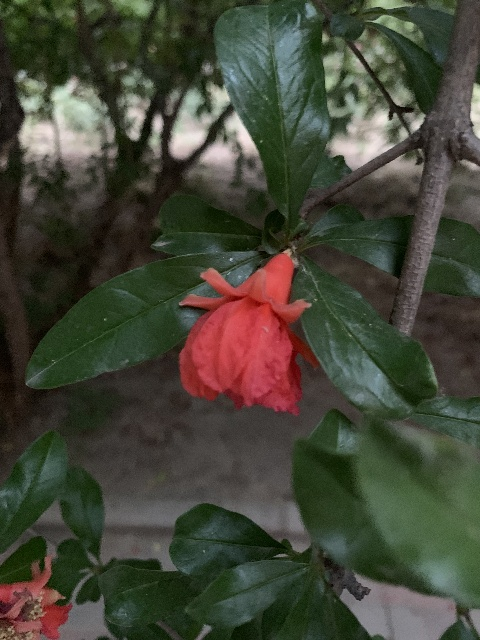flower: (177, 251, 319, 416)
